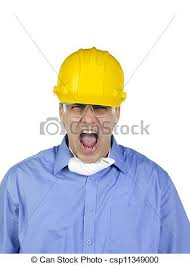Person_wearing_helmet: (42, 41, 134, 126)
